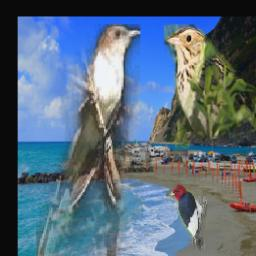Cuckoo: (36, 24, 140, 256)
Sparrow: (164, 24, 256, 148)
Woodpecker: (166, 184, 207, 250)
